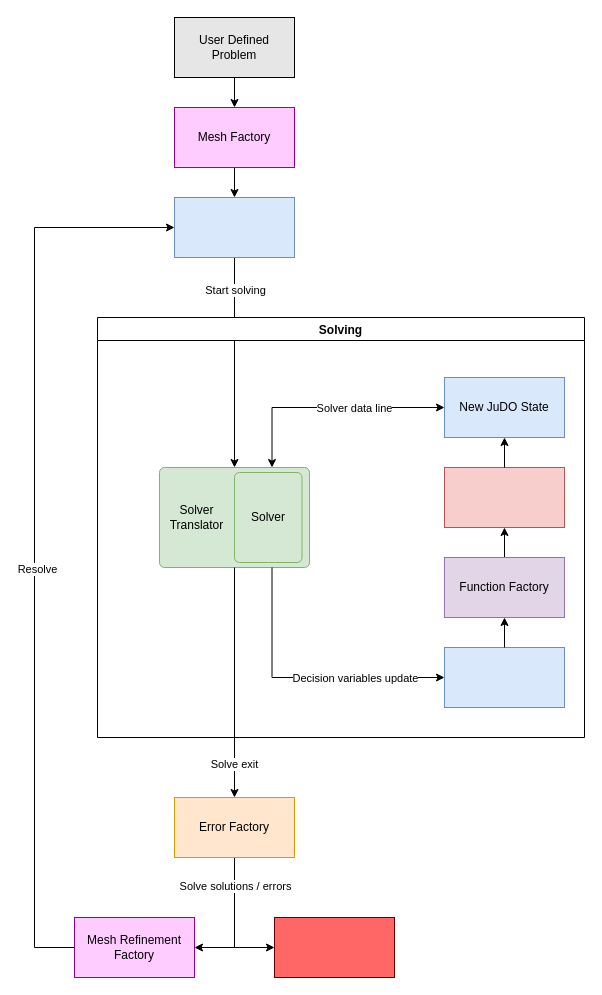
This 602x995 diagram has some shape labels left out. Each missing label, with the centre of its shape:
Derivative Factory: the point at 504,497
JuDO Problem: the point at 234,227
JuDO Problem Update: the point at 504,677
Output Factory: the point at 334,947
